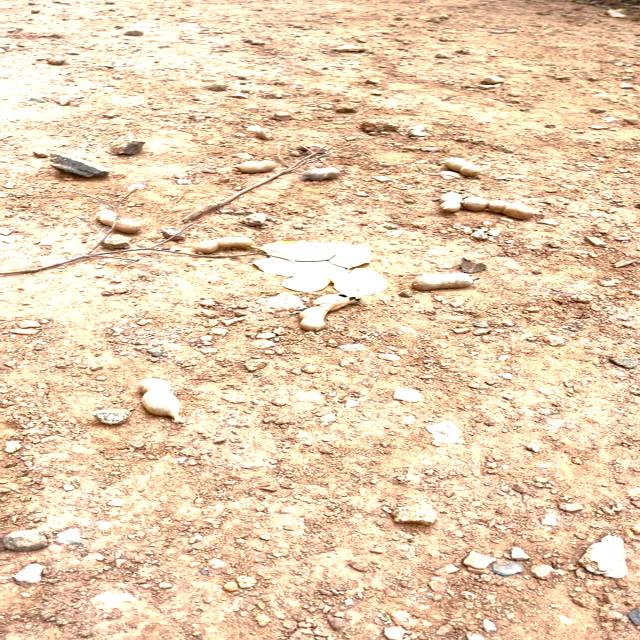tamarind: (139, 374, 193, 427), (462, 196, 551, 223), (301, 292, 364, 330), (189, 236, 260, 258), (94, 208, 146, 235), (410, 273, 483, 292), (442, 156, 484, 177), (233, 159, 283, 173), (438, 188, 462, 209)
